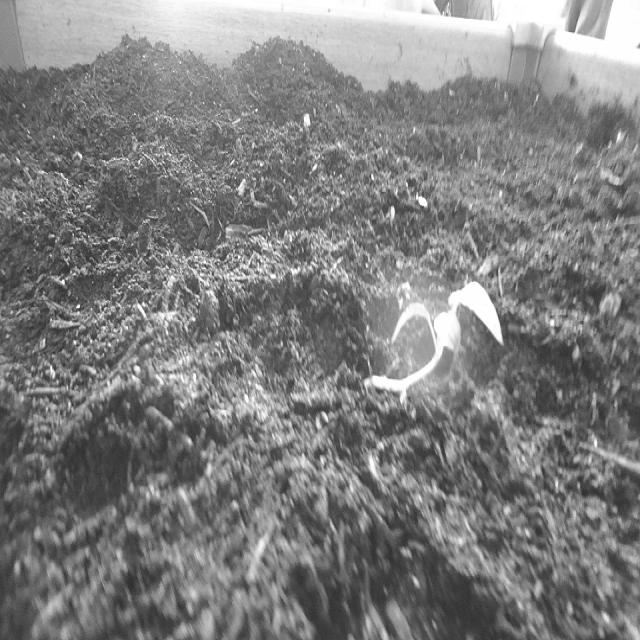Unhealthy: (360, 256, 511, 418)
